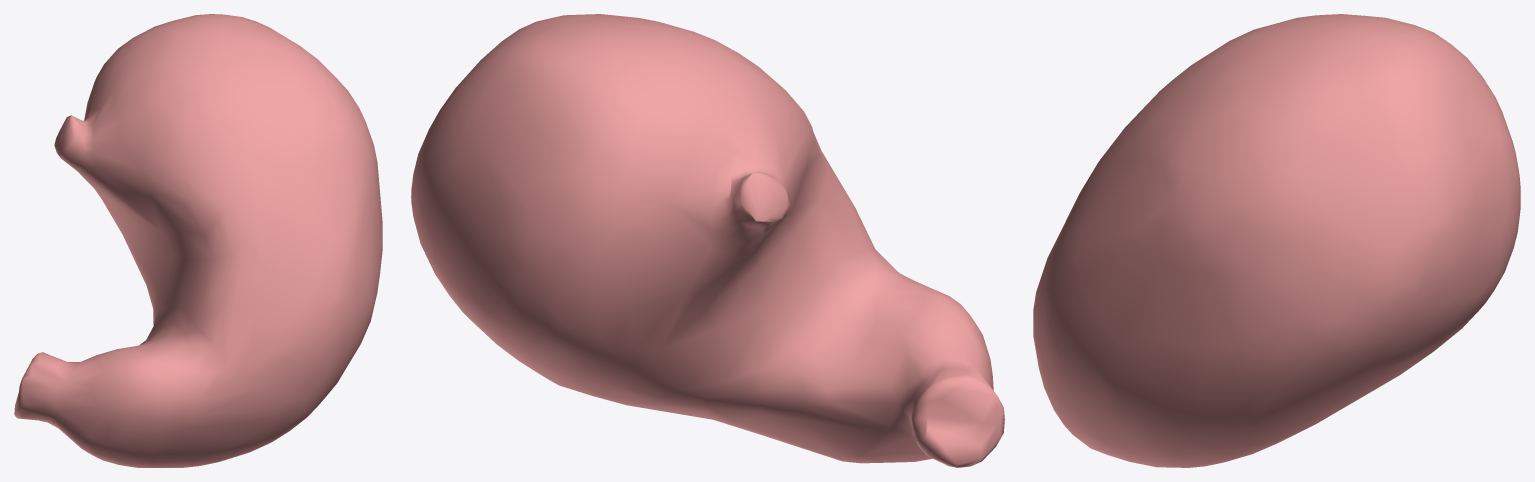
Rendered from stomach.glb.
3 views of the same model, side by side, from view 1: azimuth 30°, elevation 25°; view 2: azimuth 150°, elevation 25°; view 3: azimuth 270°, elevation 25° (orthographic). The views are drawn at different scales.
Parts seen in each view (by area): view 1: stomach; view 2: stomach; view 3: stomach.
Part boxes in pixels (<box>): stomach: <box>14,14,382,467</box>; stomach: <box>411,14,1004,467</box>; stomach: <box>1033,14,1520,467</box>.
Size of the model in its own units: 0.1343 by 0.117 by 0.1129.
